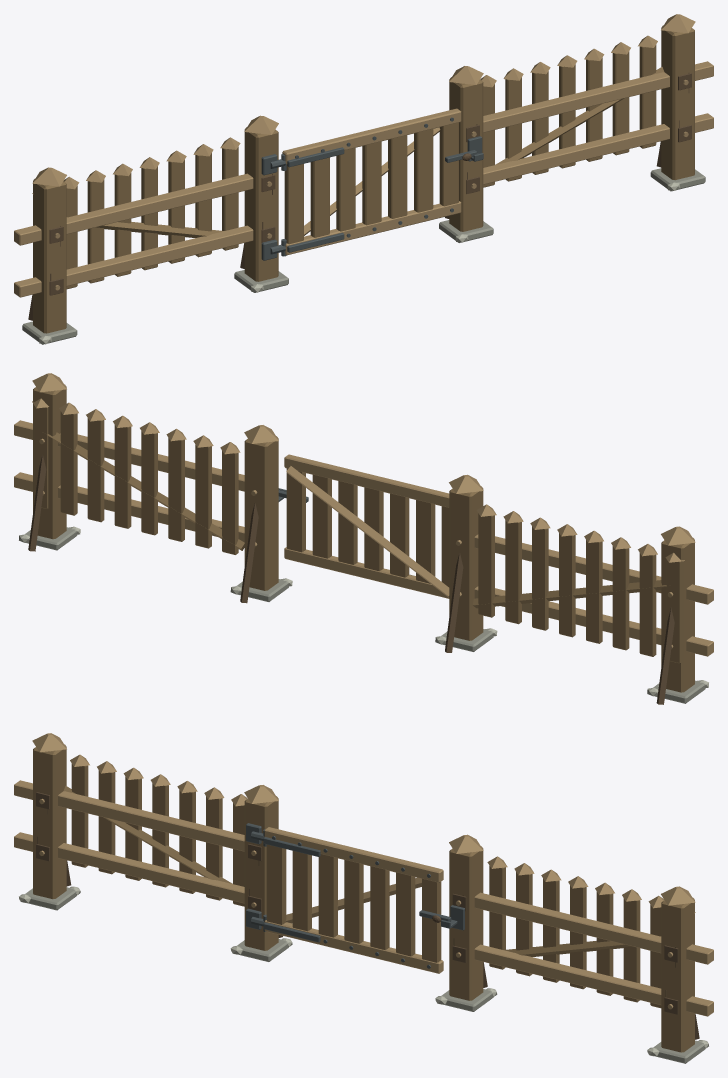
Rendered from fence.glb.
The picture shows the model from 3 angles, top to bottom: view 1: azimuth 30°, elevation 25°; view 2: azimuth 150°, elevation 25°; view 3: azimuth 330°, elevation 25°; orthographic projection.
Visible parts, largest first — view 1: GateLeaf_mesh, Post_mesh, Post.003_mesh, Post.001_mesh, Post.002_mesh, Rail.001_mesh, Rail_mesh, Rail.003_mesh, Rail.002_mesh, Footings_mesh, Picket.014_mesh, Picket.005_mesh (+15 smaller); view 2: GateLeaf_mesh, Post.002_mesh, Post.001_mesh, Post_mesh, Post.003_mesh, TemporaryBraces_mesh, Footings_mesh, Picket.014_mesh, Picket.013_mesh, Picket.005_mesh, Picket.006_mesh, Picket.012_mesh (+17 smaller); view 3: GateLeaf_mesh, Post.003_mesh, Post_mesh, Post.002_mesh, Rail.003_mesh, Rail.002_mesh, Post.001_mesh, Rail.001_mesh, Rail_mesh, Footings_mesh, Picket.006_mesh, Picket.013_mesh (+15 smaller).
Boxes of the visible parts, left/top/right/bottom form: GateLeaf_mesh: left=282, top=108, right=461, bottom=255; Post_mesh: left=32, top=167, right=66, bottom=333; Post.003_mesh: left=661, top=14, right=695, bottom=180; Post.001_mesh: left=244, top=115, right=278, bottom=281; Post.002_mesh: left=449, top=66, right=483, bottom=231; Rail.001_mesh: left=14, top=173, right=253, bottom=245; Rail_mesh: left=14, top=225, right=253, bottom=297; Rail.003_mesh: left=483, top=61, right=713, bottom=132; Rail.002_mesh: left=483, top=113, right=713, bottom=184; Footings_mesh: left=22, top=168, right=705, bottom=344; Picket.014_mesh: left=638, top=35, right=657, bottom=148; Picket.005_mesh: left=86, top=170, right=105, bottom=283; GateLeaf_mesh: left=284, top=454, right=449, bottom=598; Post.002_mesh: left=244, top=425, right=278, bottom=590; Post.001_mesh: left=449, top=474, right=483, bottom=640; Post_mesh: left=661, top=526, right=695, bottom=692; Post.003_mesh: left=32, top=373, right=66, bottom=539; TemporaryBraces_mesh: left=28, top=454, right=674, bottom=704; Footings_mesh: left=19, top=526, right=708, bottom=703; Picket.014_mesh: left=59, top=402, right=78, bottom=515; Picket.013_mesh: left=86, top=409, right=105, bottom=522; Picket.005_mesh: left=611, top=537, right=630, bottom=650; Picket.006_mesh: left=638, top=544, right=657, bottom=656; Picket.012_mesh: left=113, top=415, right=132, bottom=528; GateLeaf_mesh: left=263, top=827, right=443, bottom=973; Post.003_mesh: left=661, top=886, right=695, bottom=1052; Post_mesh: left=32, top=733, right=66, bottom=899; Post.002_mesh: left=449, top=834, right=483, bottom=1000; Rail.003_mesh: left=474, top=892, right=713, bottom=964; Rail.002_mesh: left=474, top=944, right=713, bottom=1016; Post.001_mesh: left=244, top=785, right=278, bottom=950; Rail.001_mesh: left=14, top=780, right=244, bottom=851; Rail_mesh: left=14, top=832, right=244, bottom=903; Footings_mesh: left=19, top=886, right=708, bottom=1063; Picket.006_mesh: left=70, top=754, right=89, bottom=867; Picket.013_mesh: left=622, top=889, right=641, bottom=1002.
Bounding box in the file's own units: 6.72 × 1.53 × 0.6178.
